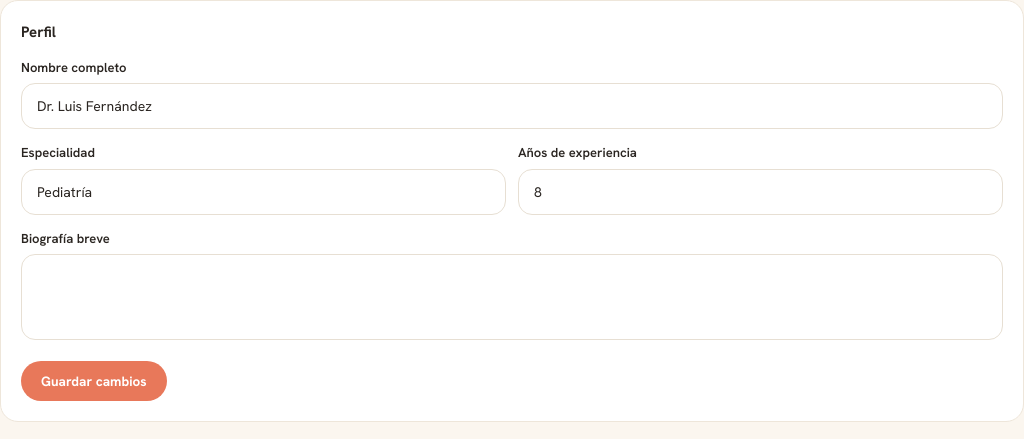
ProfileEditor › disables the save button when the profile is invalid
Clear the field labelled "Nombre completo" at (512, 106), box [21,83,1003,129]
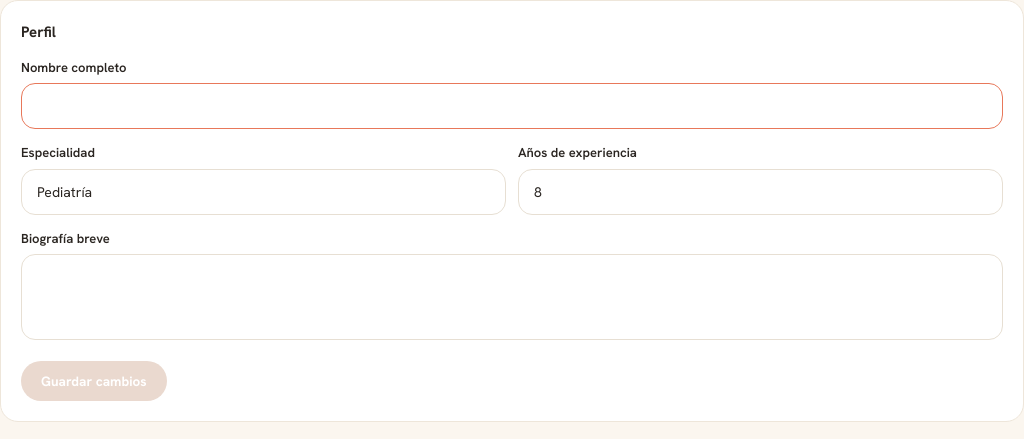
expect the button "Guardar cambios" is disabled: met, box [21,361,167,401]
